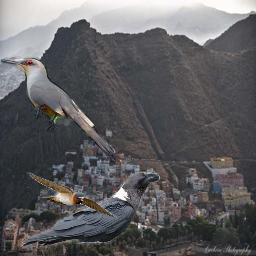Crow: (20, 172, 160, 248)
Cuckoo: (1, 57, 123, 165)
Swallow: (24, 170, 118, 218)
